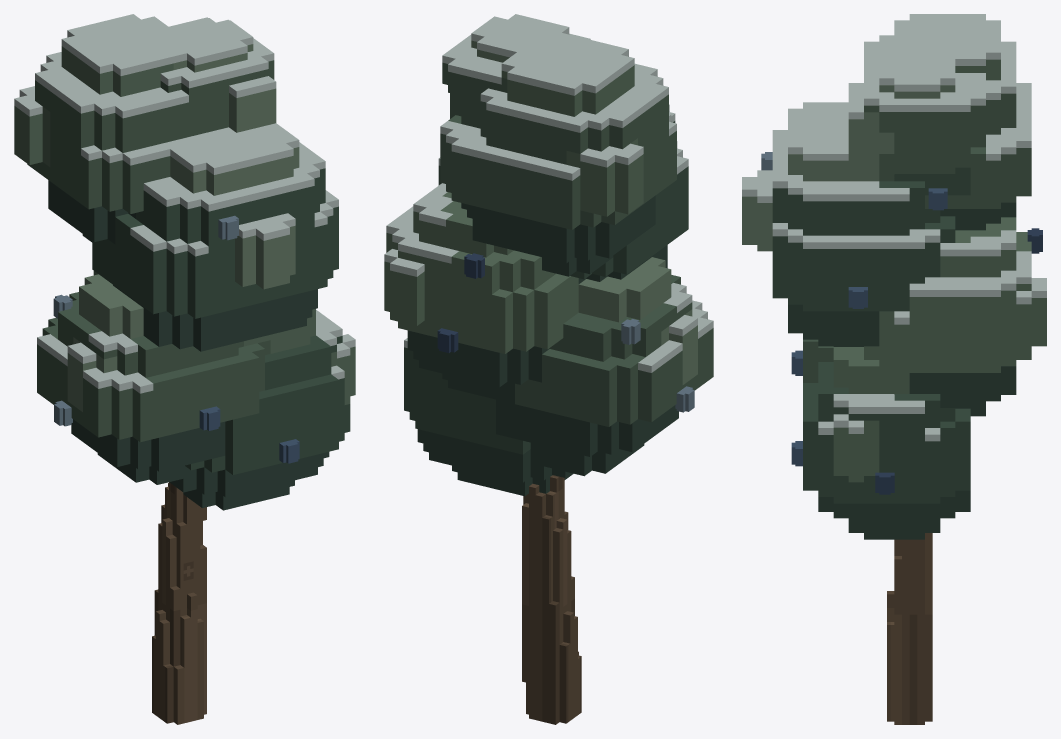
File: juniper_mature_winter_2.glb
3 renders of one model, left to right at view 1: azimuth 30°, elevation 25°; view 2: azimuth 150°, elevation 25°; view 3: azimuth 270°, elevation 25°, orthographic.
Parts seen in each view (by area): view 1: VoxelVisual; view 2: VoxelVisual; view 3: VoxelVisual.
Part boxes in pixels (box(x1,y1,x2,y2)): VoxelVisual: box(14, 14, 355, 724); VoxelVisual: box(384, 14, 713, 724); VoxelVisual: box(742, 14, 1046, 724).
Size of what is drawn, in the model's own units: 5.19 by 12 by 5.
